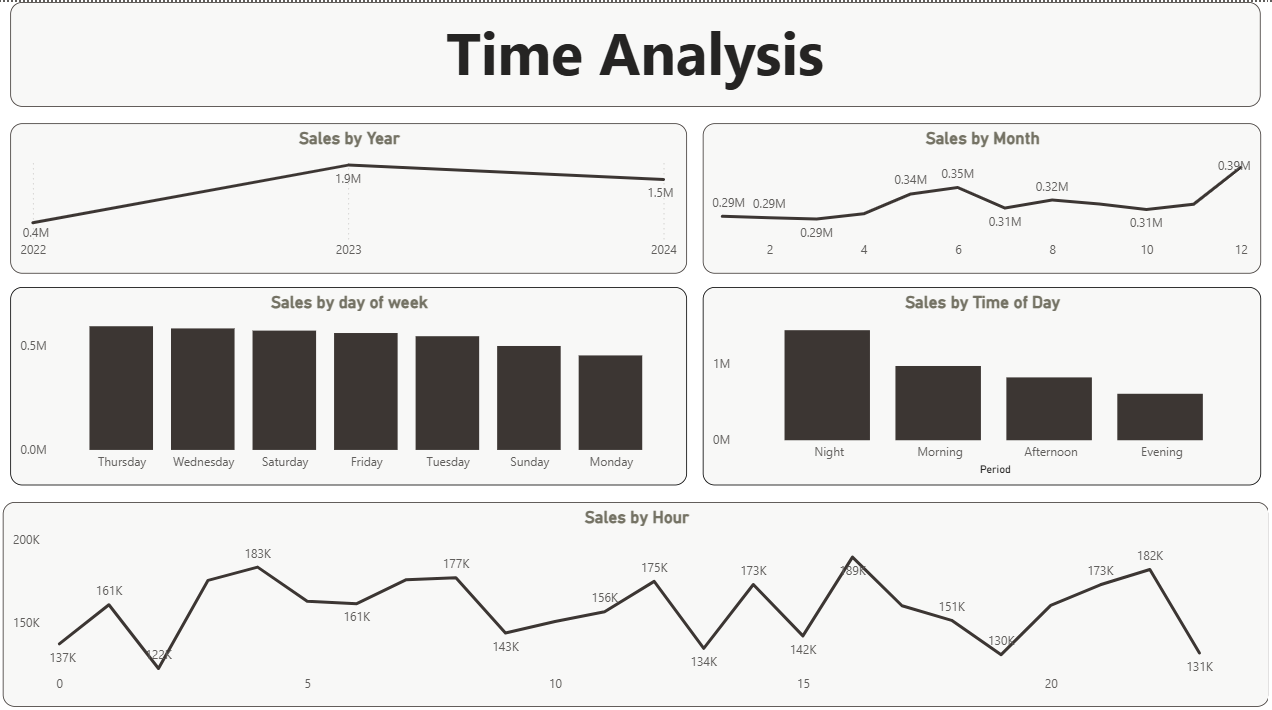

Layout of this report page (visuals, bound fields, positions):
{"tool":"powerbi","page":{"name":"Time Analysis","canvas":[1280,720],"ordinal":1},"visuals":[{"type":"lineChart","title":"Sales by Hour","fields":{"Y":["Sum(Orders.Total_Sales)"],"Category":["Orders.Hour"]},"box":[8.3,500,1266.7,205],"z":0},{"type":"columnChart","title":"Sales by day of week","fields":{"Category":["Orders.Day_of_Week"],"Y":["Sum(Orders.Total_Sales)"]},"box":[16.7,285,676.7,198.3],"z":1000},{"type":"columnChart","title":"Sales by Time of Day","fields":{"Category":["Orders.Period"],"Y":["Sum(Orders.Total_Sales)"]},"box":[708.3,285,558.3,198.3],"z":2000},{"type":"textbox","box":[16.7,0,1250,105],"z":3000},{"type":"lineChart","title":"Sales by Year","fields":{"Category":["Orders.Year"],"Y":["Sum(Orders.Total_Sales)"]},"box":[16.7,121.7,676.7,150],"z":4000},{"type":"lineChart","title":"Sales by Month","fields":{"Category":["Orders.Month"],"Y":["Sum(Orders.Total_Sales)"]},"box":[708.3,121.7,558.3,150],"z":5000}]}

Visuals, with their boxes in screenshot pixels (x1, y1, x2, y2), scaled from the page's 1280x720 canvas onto the 1272x710 screenshot:
"Sales by Hour" lineChart: rect(8, 493, 1267, 695)
"Sales by day of week" columnChart: rect(17, 281, 689, 477)
"Sales by Time of Day" columnChart: rect(704, 281, 1259, 477)
textbox: rect(17, 0, 1259, 104)
"Sales by Year" lineChart: rect(17, 120, 689, 268)
"Sales by Month" lineChart: rect(704, 120, 1259, 268)
